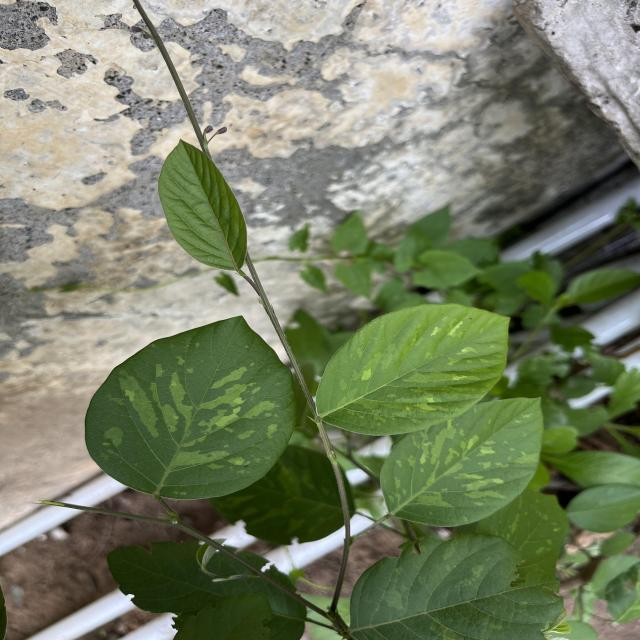Desmodium gangeticum: (82, 312, 300, 502), (312, 300, 514, 440)
